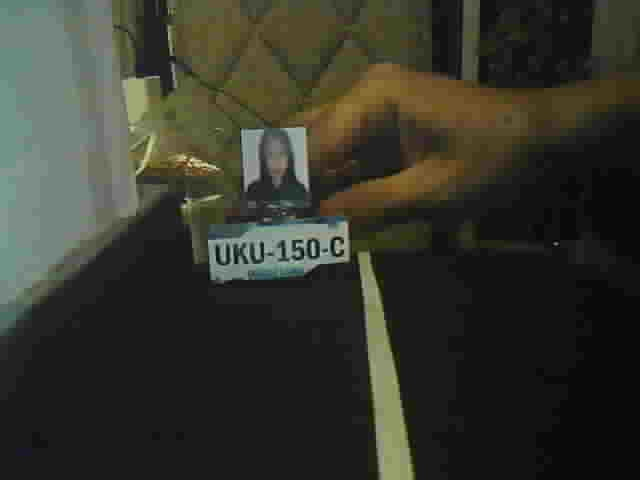PLACA: (205, 215, 352, 285)
ROSTRO: (241, 131, 309, 200)
